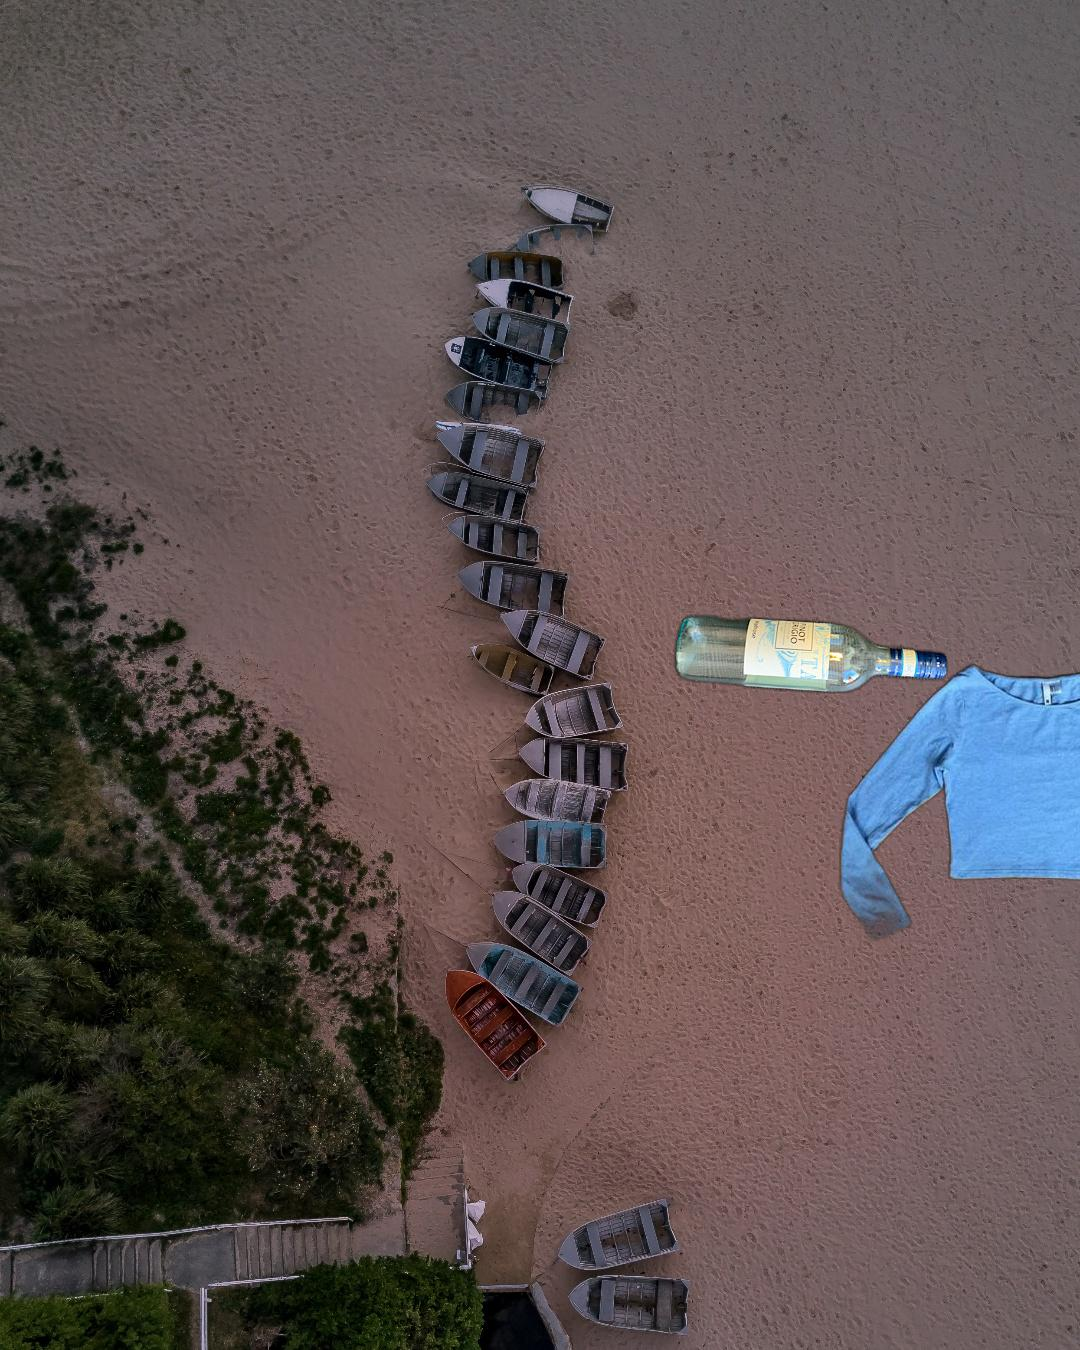clothes: (839, 661, 1080, 981)
glass: (671, 609, 952, 699)
